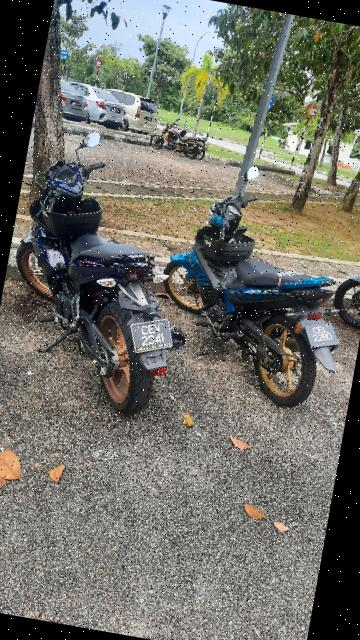License_Plate: (120, 310, 185, 365), (293, 307, 349, 358)
motorcycle: (1, 114, 209, 422), (148, 146, 360, 421)
